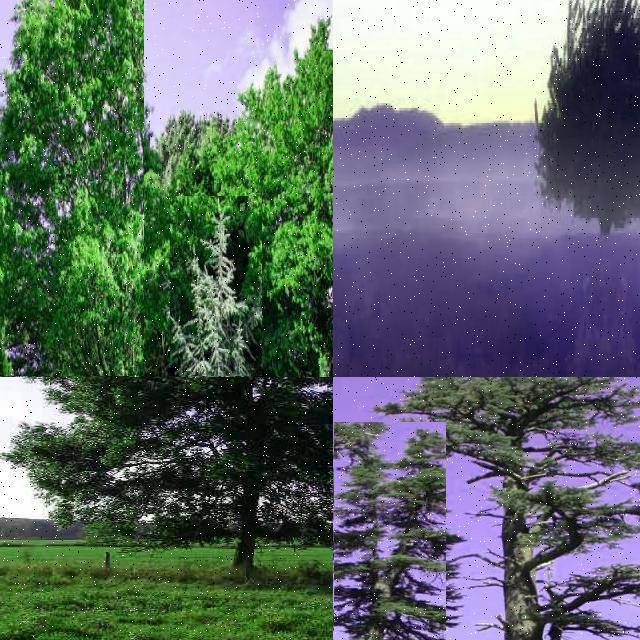tree: (8, 377, 332, 593), (414, 376, 640, 640), (0, 0, 144, 376), (205, 15, 333, 378), (532, 0, 640, 236), (334, 422, 446, 640), (170, 196, 262, 376), (125, 179, 192, 377)
